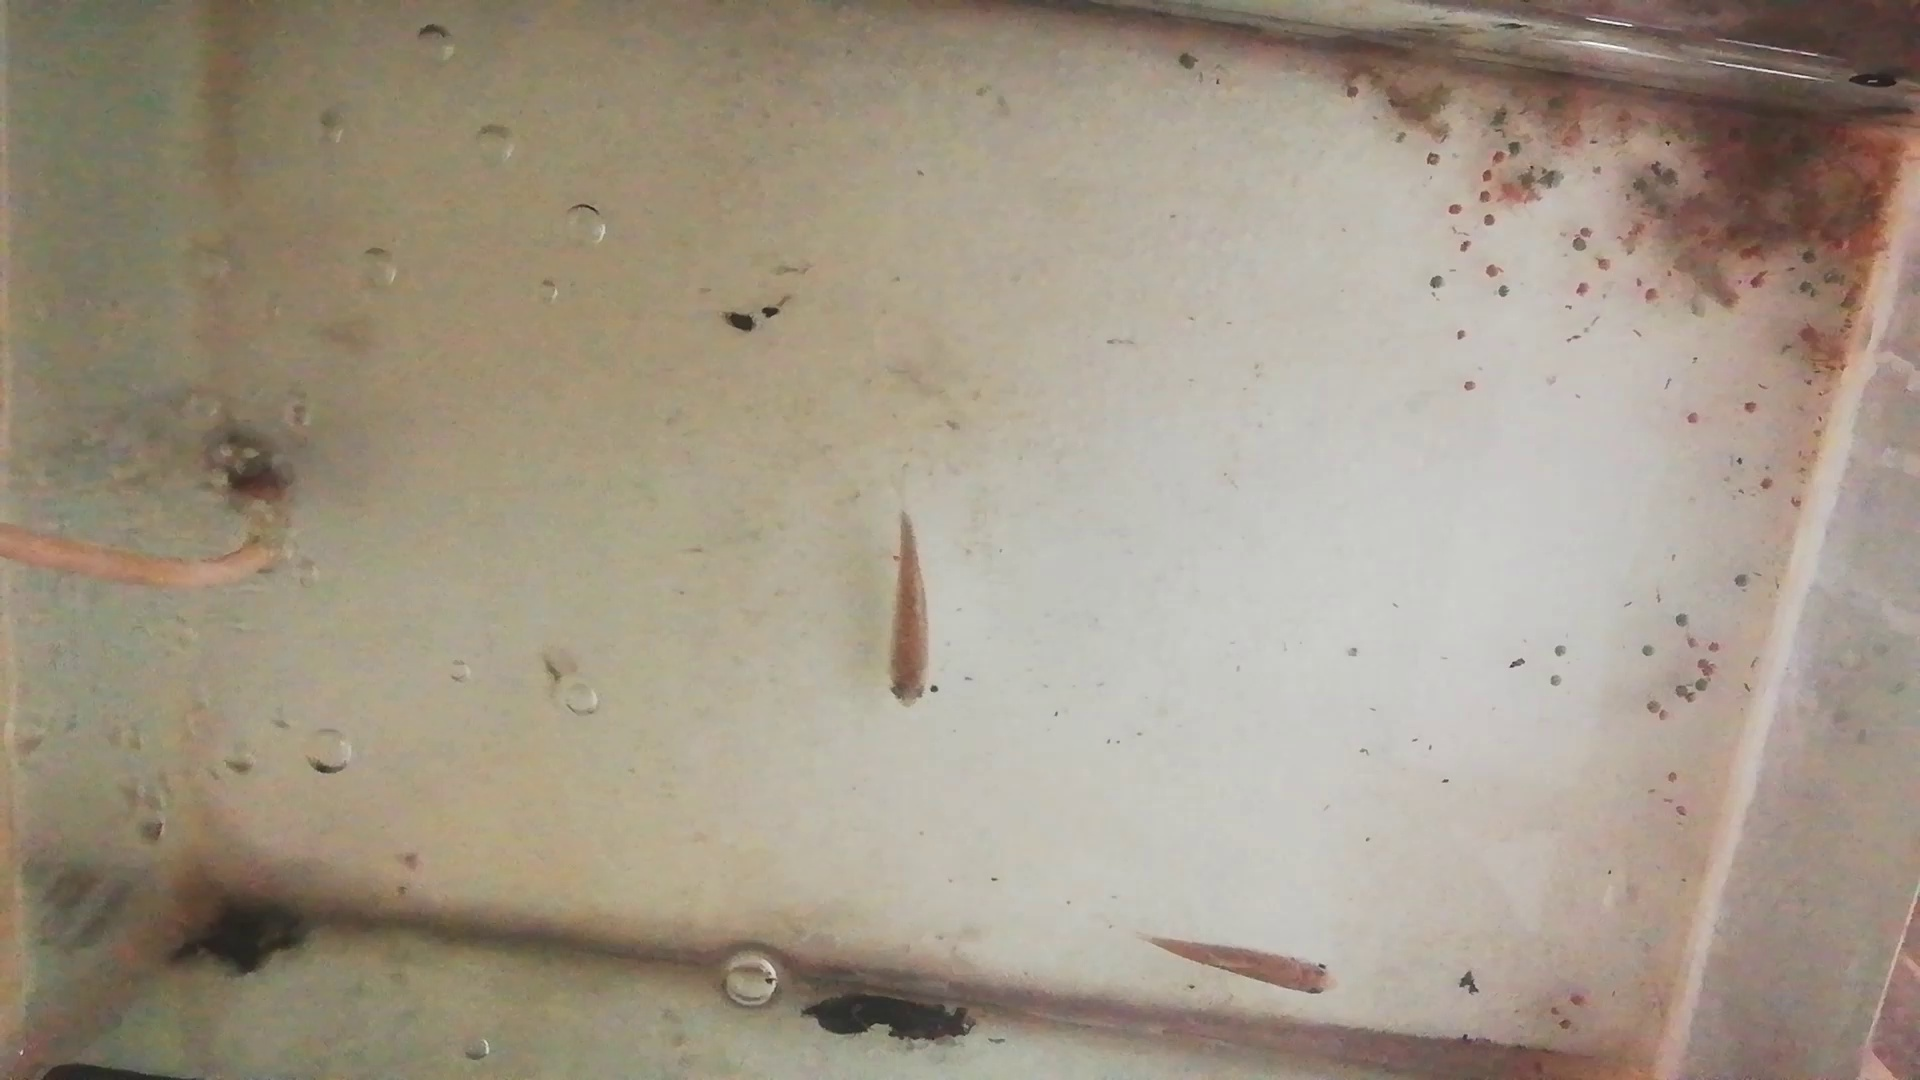fish: (1151, 928, 1336, 998), (887, 510, 934, 709)
